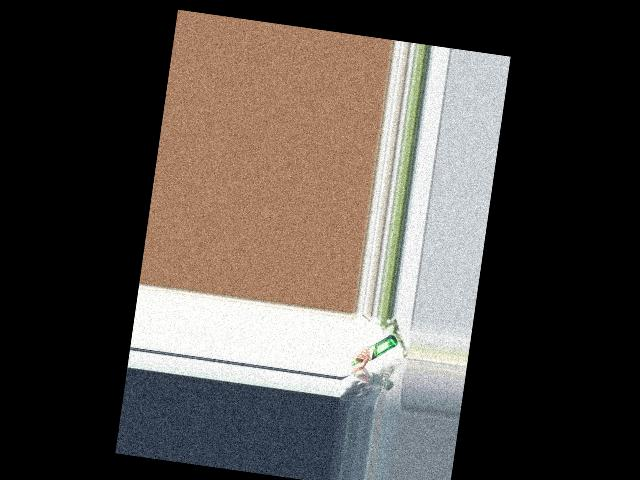beer: (351, 330, 399, 372)
